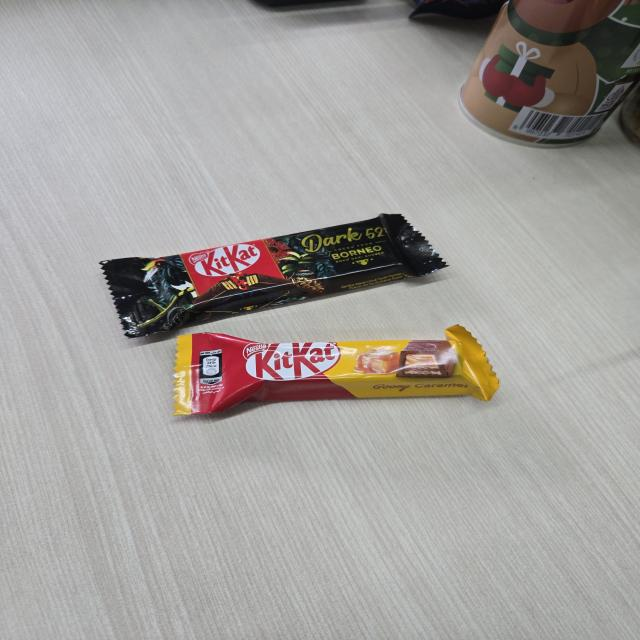chocolate-bar: (88, 210, 461, 333), (160, 325, 502, 413)
